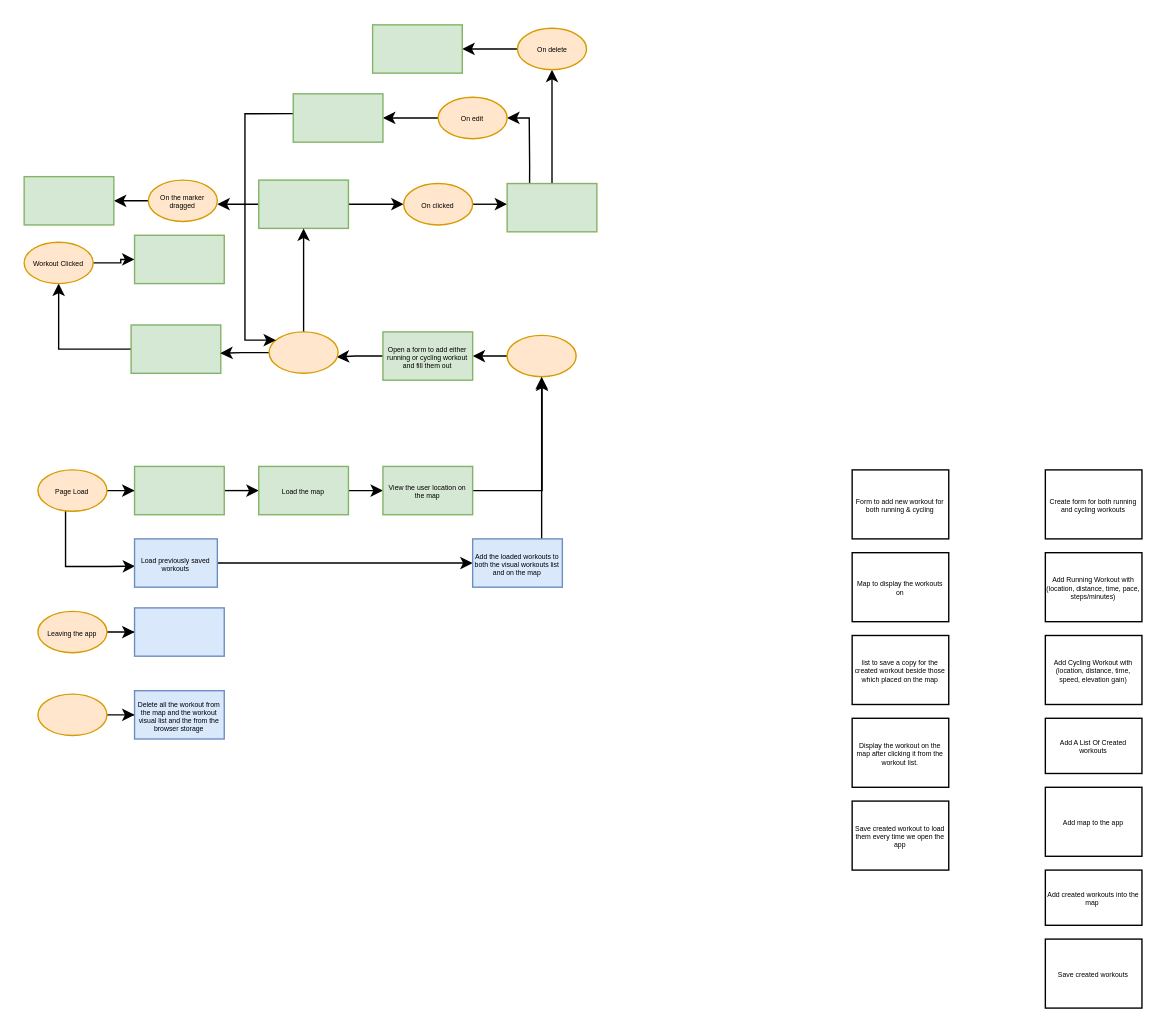
Image size: 1166x1032. Some labels were removed from this diagram. The centre of each missing label's shape, as x and y in pixels:
"add the new workout on the map if not exist" belongs at point (302, 203).
"add the new workout to the visual workouts list" belongs at point (175, 348).
"Delete All workout" belongs at point (72, 714).
"Delete the workout from the map and from the workout visual list" belongs at point (416, 48).
"Display Info for the workout and edit & delete Buttons" belongs at point (551, 207).
"Display The workout form with the previous info to edit" belongs at point (337, 117).
"Get the user location" belongs at point (178, 490).
"Map Clicked" belongs at point (541, 355).
"modify the distance content on the workout visual list" belongs at point (68, 200).
"Save all workouts before leaving the app (closing the app)" belongs at point (178, 631).
"Submit the Form" belongs at point (303, 352).
"View the clicked workout on the map" belongs at point (178, 259).
